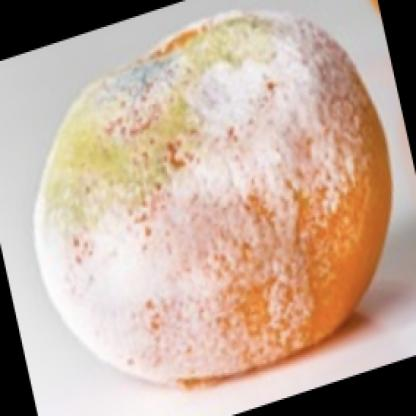rotten: (37, 23, 393, 378)
